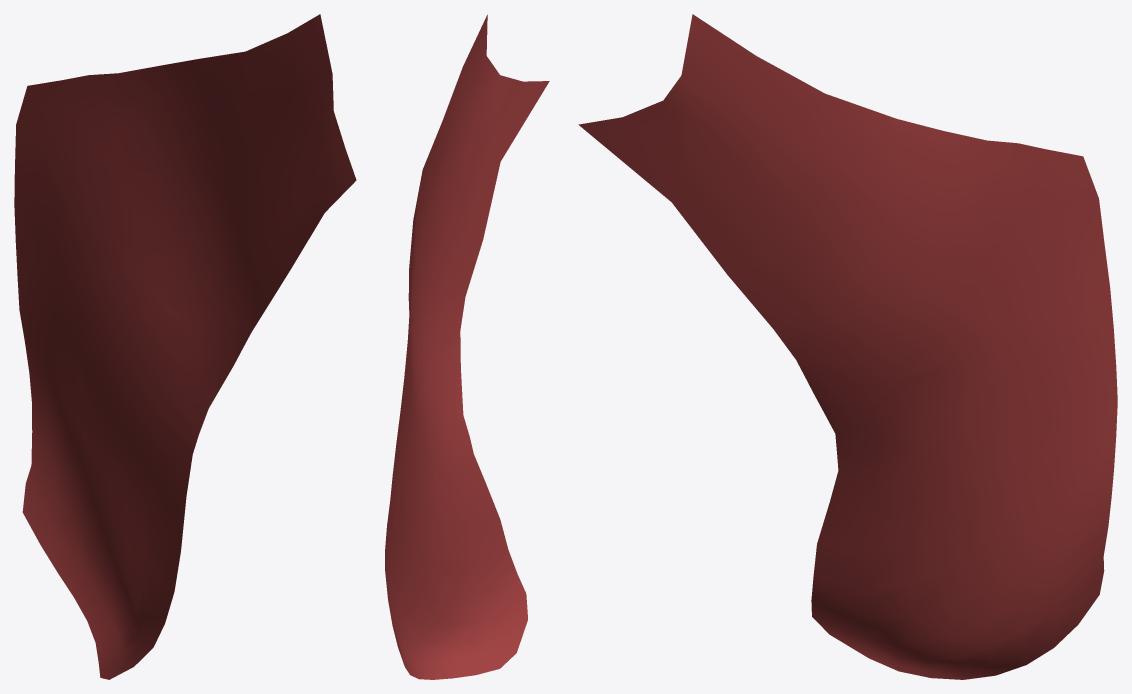
Rendered from flexor-retinaculum-of-ankle-r.glb.
3 views of the same model, side by side, from view 1: azimuth 30°, elevation 25°; view 2: azimuth 150°, elevation 25°; view 3: azimuth 270°, elevation 25° (orthographic). The views are drawn at different scales.
Parts seen in each view (by area): view 1: Flexor retinaculum of ankle.r; view 2: Flexor retinaculum of ankle.r; view 3: Flexor retinaculum of ankle.r.
Boxes of the visible parts, x1=… form: Flexor retinaculum of ankle.r: x1=14, y1=14, x2=356, y2=679; Flexor retinaculum of ankle.r: x1=385, y1=14, x2=549, y2=679; Flexor retinaculum of ankle.r: x1=578, y1=14, x2=1117, y2=679.
Bounding box in the file's own units: 0.0152 × 0.0791 × 0.0541.
